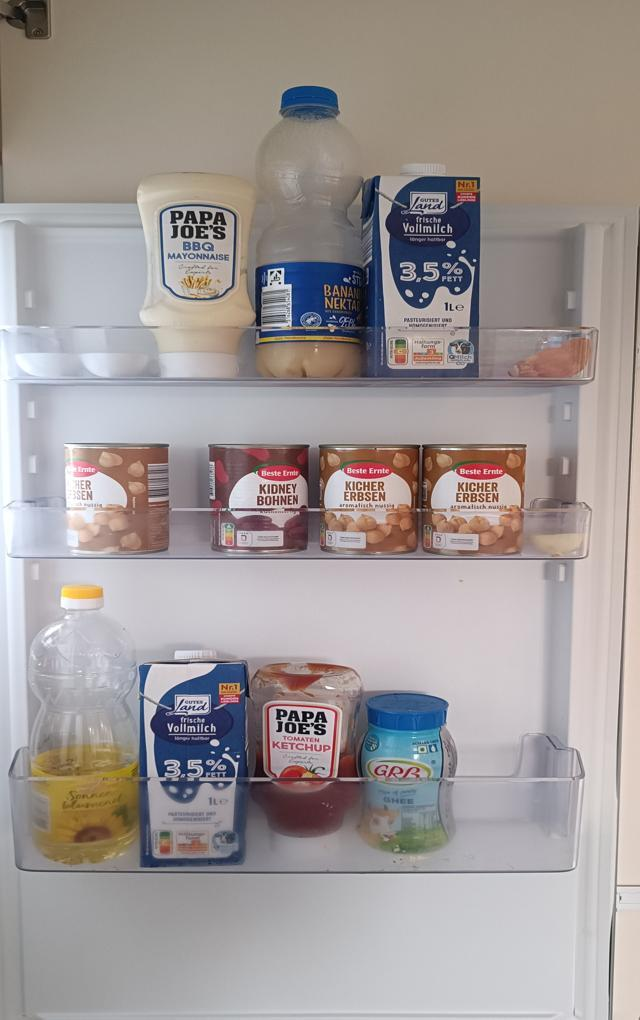bananajuice: (252, 85, 373, 381)
chickpeas: (64, 439, 169, 558), (422, 446, 526, 556), (320, 446, 418, 560)
ghee: (359, 689, 459, 855)
kidneybeans: (205, 439, 311, 553)
mayoniasie: (137, 173, 260, 384)
milk: (362, 158, 485, 386), (138, 652, 255, 872)
oil: (31, 586, 142, 862)
tomatoketchup: (249, 660, 363, 864)
